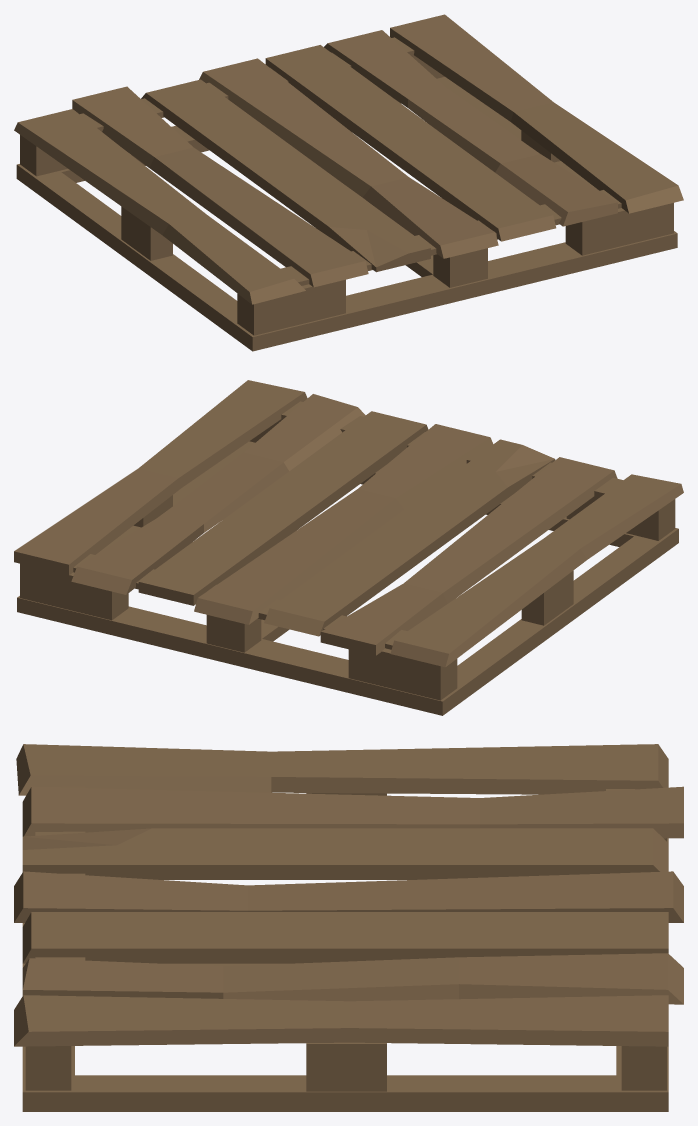
Rendered from SM_Prop_Pallet_01.glb.
The picture shows the model from 3 angles, top to bottom: view 1: azimuth 30°, elevation 25°; view 2: azimuth 150°, elevation 25°; view 3: azimuth 270°, elevation 25°; orthographic projection. The views are drawn at different scales.
Parts seen in each view (by area): view 1: SM_Prop_Pallet_01; view 2: SM_Prop_Pallet_01; view 3: SM_Prop_Pallet_01.
Part boxes in pixels (bbox=[...]): SM_Prop_Pallet_01: bbox=[14, 14, 683, 351]; SM_Prop_Pallet_01: bbox=[14, 380, 683, 715]; SM_Prop_Pallet_01: bbox=[14, 744, 683, 1111].
Size of the model in its own units: 1.77 by 0.2347 by 1.74.
Materials: 1 (1 with a texture image).
